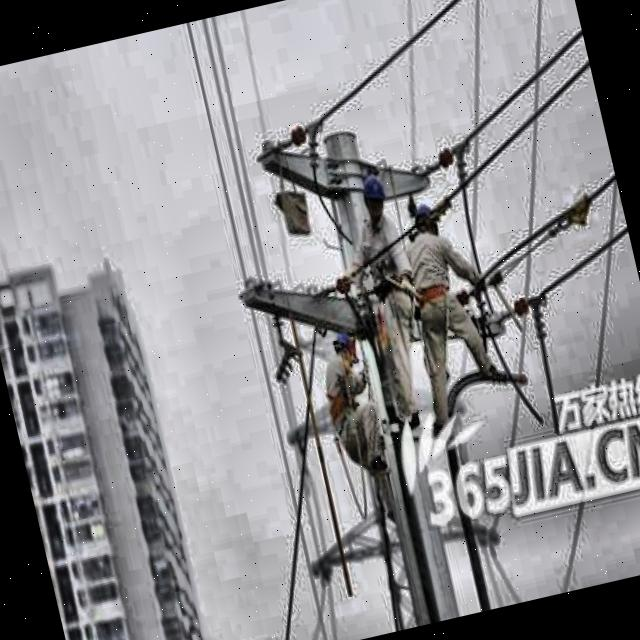helmet: (354, 168, 394, 225), (325, 320, 366, 374), (409, 191, 446, 240)
